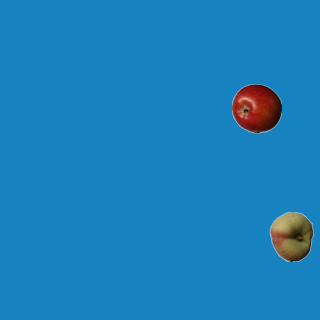Apple Braeburn: (231, 83, 281, 133)
Peach Flat: (266, 211, 316, 261)
